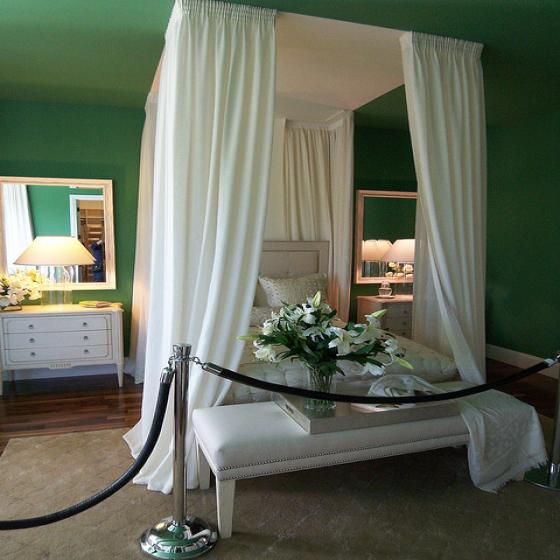bed: (122, 3, 485, 455)
bench: (191, 379, 536, 540)
book: (351, 399, 456, 413), (79, 300, 112, 307)
vase: (304, 366, 338, 411)
